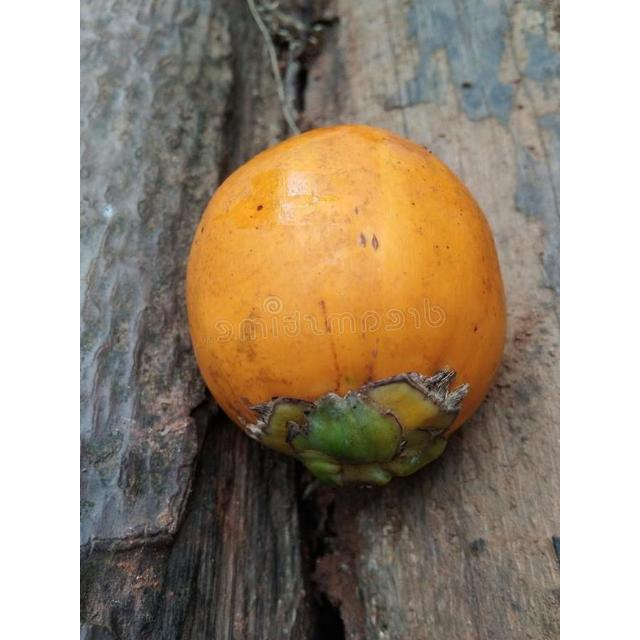good: (186, 126, 504, 488)
